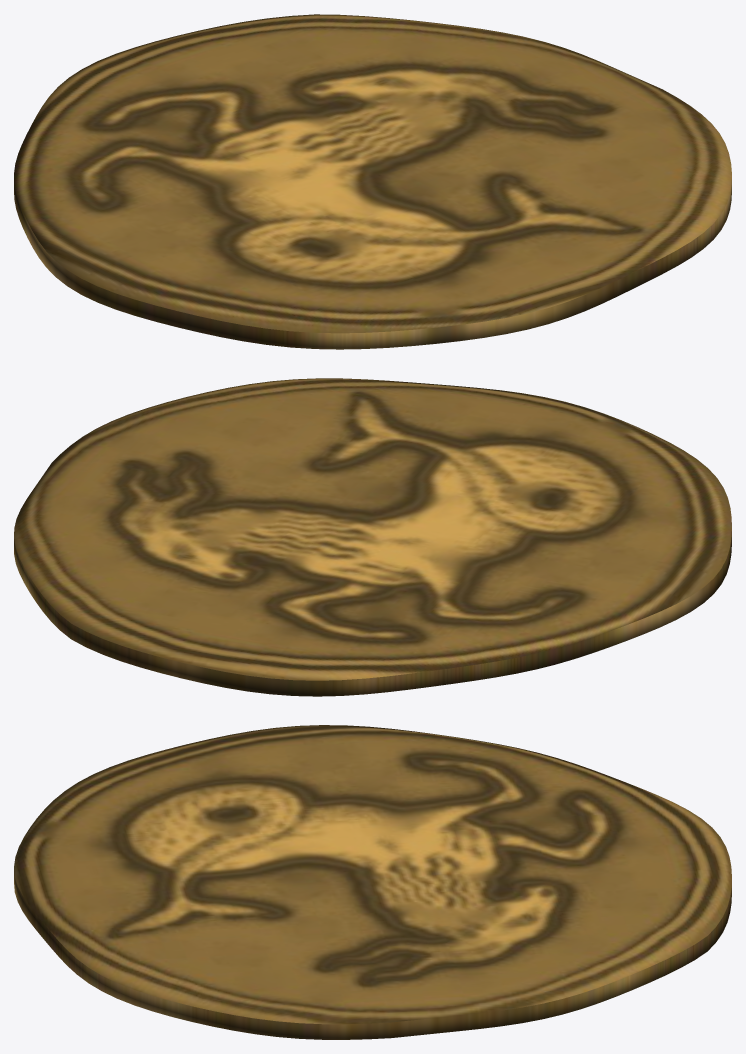
Rendered from zodiac_10.glb.
3 renders of one model, top to bottom at view 1: azimuth 30°, elevation 25°; view 2: azimuth 150°, elevation 25°; view 3: azimuth 270°, elevation 25°, orthographic. The views are drawn at different scales.
Parts seen in each view (by area): view 1: zodiac_10; view 2: zodiac_10; view 3: zodiac_10.
Boxes of the visible parts, box(x1,y1,x2,y2) form: zodiac_10: box(14, 14, 731, 349); zodiac_10: box(14, 378, 731, 696); zodiac_10: box(14, 725, 731, 1039).
Size of the model in its own units: 0.9499 by 0.0421 by 0.9633.
1 material, 1 textured.
